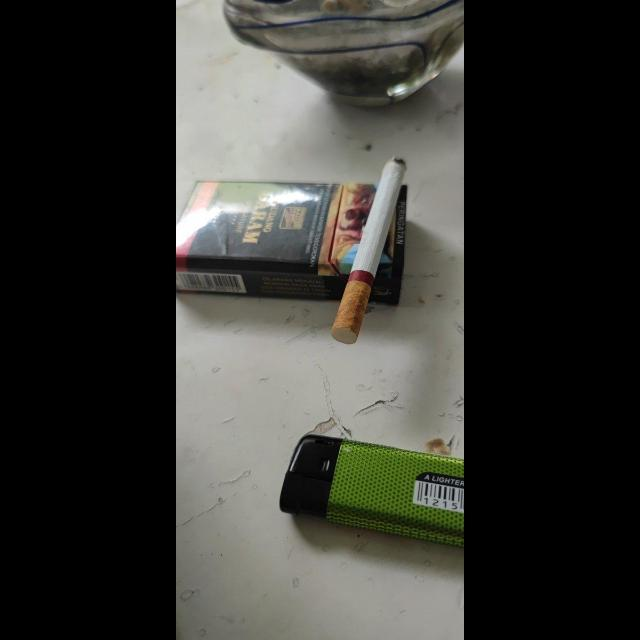rokok: (327, 154, 411, 348)
